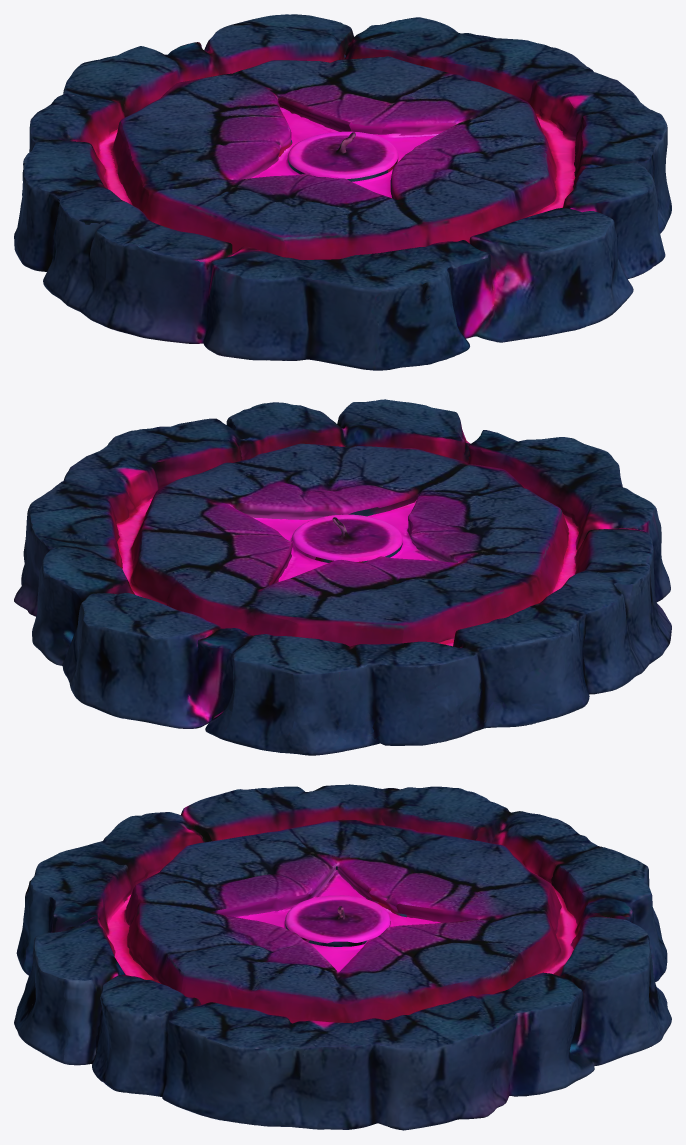
The model's file is island-shelf-generated-2026-05-17T17-41-15-040Z.medium.glb.
3 views of the same model, one above another, from view 1: azimuth 30°, elevation 25°; view 2: azimuth 150°, elevation 25°; view 3: azimuth 270°, elevation 25° (orthographic).
Visible parts, largest first — view 1: temp_mesh.ply; view 2: temp_mesh.ply; view 3: temp_mesh.ply.
Part boxes in pixels (<box>): temp_mesh.ply: <box>14,14,671,370</box>; temp_mesh.ply: <box>14,399,671,755</box>; temp_mesh.ply: <box>14,784,671,1130</box>.
Size of the model in its own units: 1.97 by 0.3035 by 1.97.
Materials: 1 (1 with a texture image).
